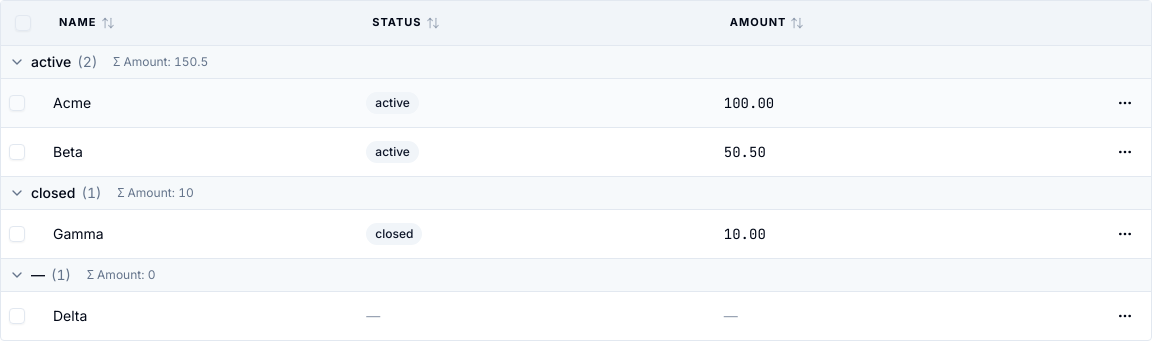
ObjectDataTable grouping › collapses and re-expands a group without touching the others
What coordinates should you click on to do the following:
click the button with test id "group-toggle-active"
I would click on:
 (53, 62)
Its box is [9,52,97,72].
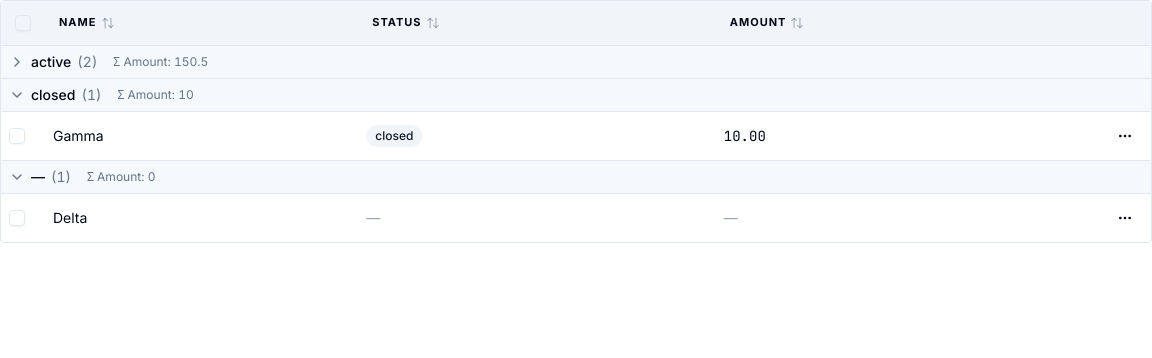
Expected: the text "Gamma" is shown, [53,127,104,144]
Now the text "Acme" is gone
Now the text "Beta" is gone
What coordinates should you click on to do the following:
click the button with test id "group-toggle-active"
I would click on:
 (53, 62)
Its box is [9,52,97,72].
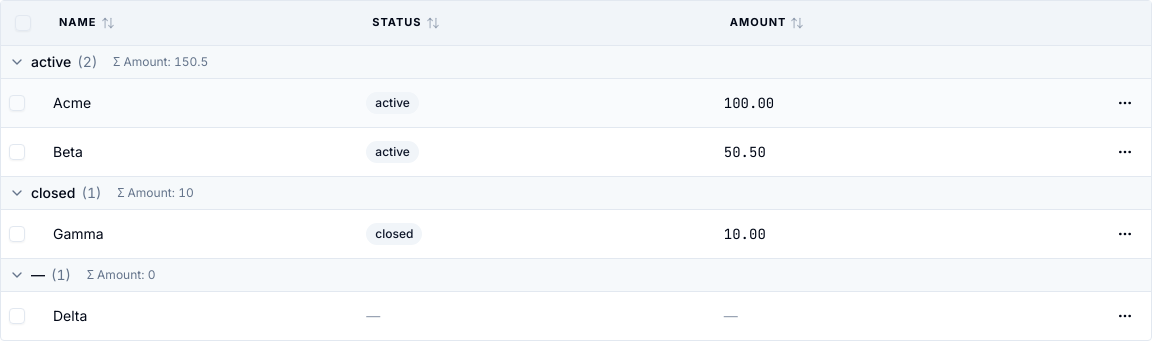
Now the text "Acme" is shown, box [53,94,91,111]
